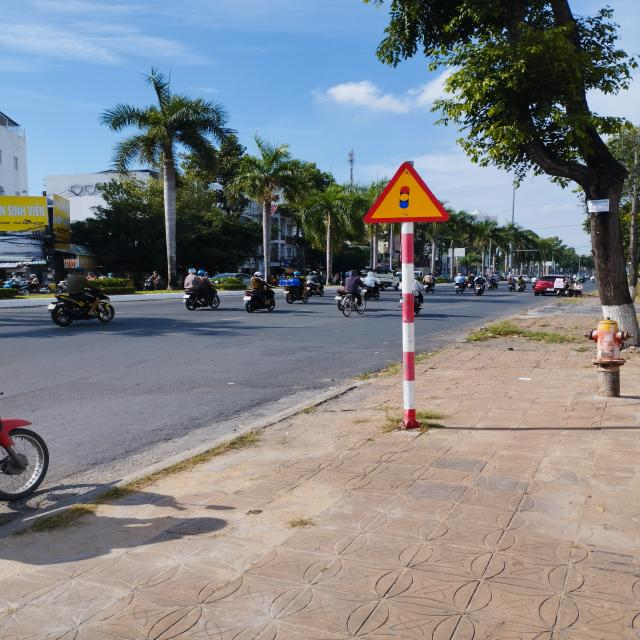Duong_Co_Go_Giam_Toc: (363, 163, 449, 222)
